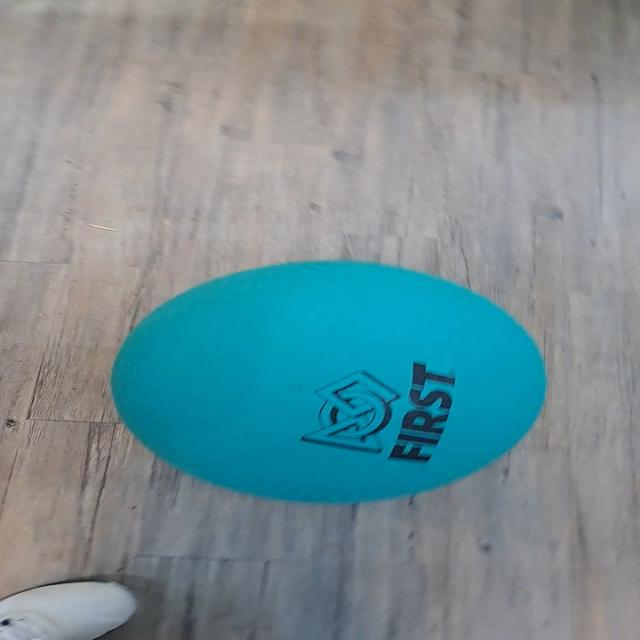ALGAE: (108, 259, 550, 505)
